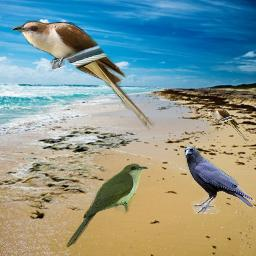Crow: (183, 146, 255, 214)
Cuckoo: (11, 20, 155, 131), (66, 163, 148, 249), (204, 108, 248, 142)
